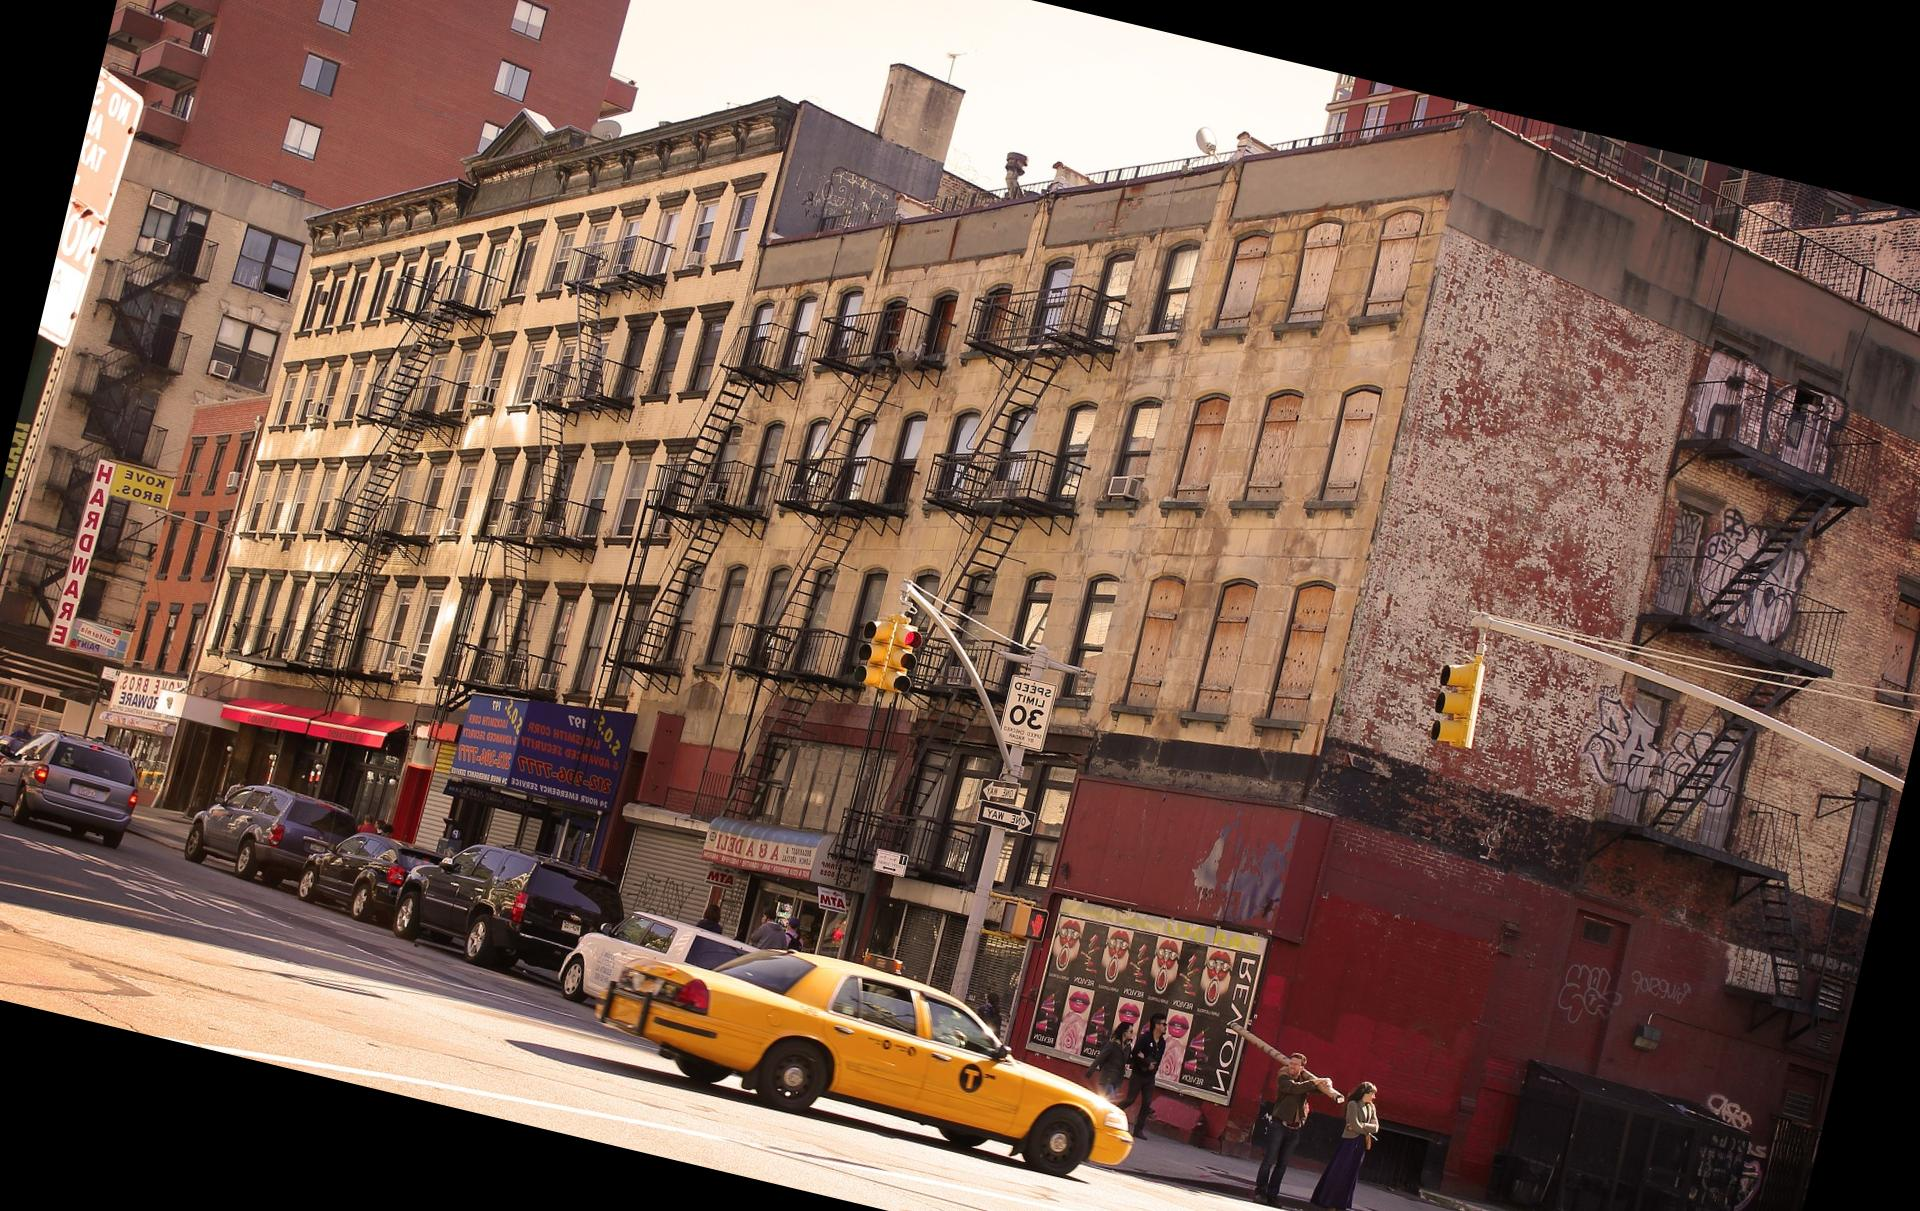taxi: (585, 898, 1144, 1178)
